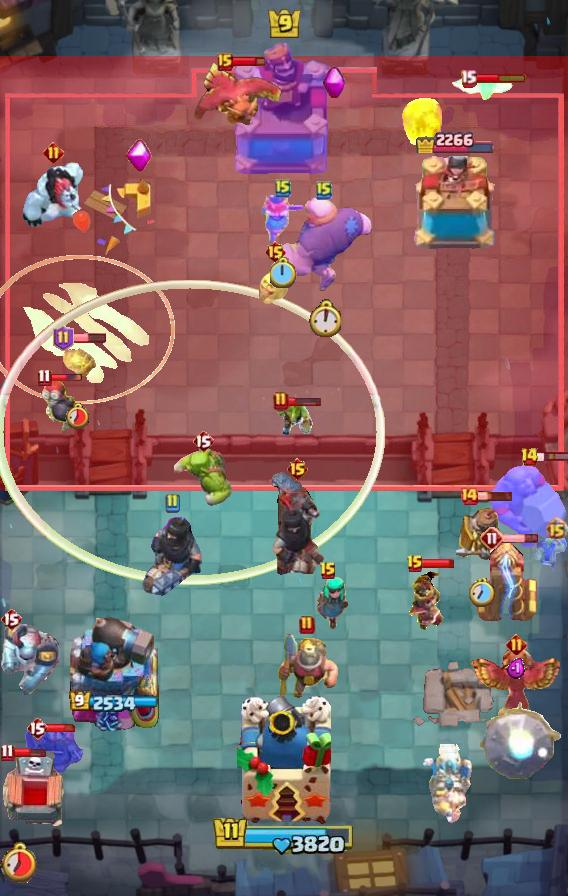archer-queen: (486, 462, 568, 550)
balloon: (273, 195, 375, 295)
bandit: (274, 633, 340, 701)
barbarian: (449, 75, 515, 105)
bat-evolution: (258, 261, 292, 305)
battle-ram: (22, 725, 84, 773)
bomber-evolution: (406, 569, 446, 631)
clock: (212, 815, 356, 857)
earthquake: (456, 501, 508, 569)
electro-spirit: (507, 658, 526, 679)
elixir: (0, 841, 40, 883), (308, 299, 341, 337), (271, 256, 297, 287), (469, 577, 495, 606), (65, 403, 91, 430)
elixir-golem-mid: (0, 749, 70, 835)
elixir-golem-small: (0, 621, 62, 699)
emote: (474, 72, 527, 84), (231, 55, 266, 68), (477, 490, 514, 502), (71, 332, 107, 344), (12, 747, 48, 759), (286, 395, 321, 407), (501, 532, 539, 543), (536, 451, 568, 463), (421, 558, 455, 569), (49, 373, 83, 383), (46, 723, 78, 733)
flying-machine: (174, 449, 232, 507)
goblin-brawler: (472, 538, 540, 624)
golden-knight: (468, 648, 564, 726)
hog-rider: (259, 193, 307, 247)
ice-golem: (39, 376, 77, 432)
ice-spirit-evolution: (58, 336, 98, 380)
ice-wizard: (1, 256, 176, 405)
inferno-dragon: (267, 471, 327, 577), (140, 515, 204, 598)
king-tower: (228, 41, 340, 181), (237, 696, 331, 826)
mini-pekka: (419, 744, 475, 828)
mother-witch: (190, 63, 286, 131)
queen-tower: (407, 156, 499, 256)
rage: (19, 160, 87, 230)
selected: (414, 126, 495, 154), (69, 690, 159, 714)
skeleton-king-skill: (126, 139, 152, 173), (323, 66, 348, 100)
text: (480, 526, 504, 550), (53, 325, 75, 351), (264, 240, 287, 264), (287, 457, 310, 481), (544, 517, 567, 540), (192, 429, 214, 453), (0, 607, 22, 631), (26, 716, 48, 740), (43, 141, 64, 163), (506, 633, 527, 655), (459, 486, 479, 506), (521, 447, 540, 467), (406, 554, 424, 574), (319, 561, 337, 581), (460, 69, 477, 88), (275, 178, 291, 198), (316, 180, 332, 200), (273, 391, 289, 411), (164, 493, 180, 513), (299, 615, 315, 635), (217, 53, 233, 71), (1, 743, 16, 762), (37, 369, 51, 387)
tower-bar: (68, 611, 160, 731)
valkyrie: (399, 92, 446, 150)
witch: (304, 575, 352, 633)
x-bow: (478, 701, 562, 781)
zap: (274, 397, 314, 437), (532, 532, 568, 572)
